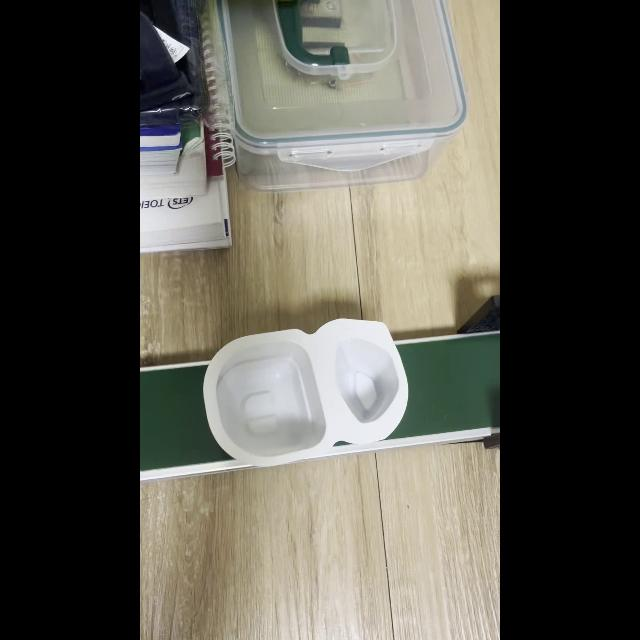clean: (202, 319, 408, 465)
